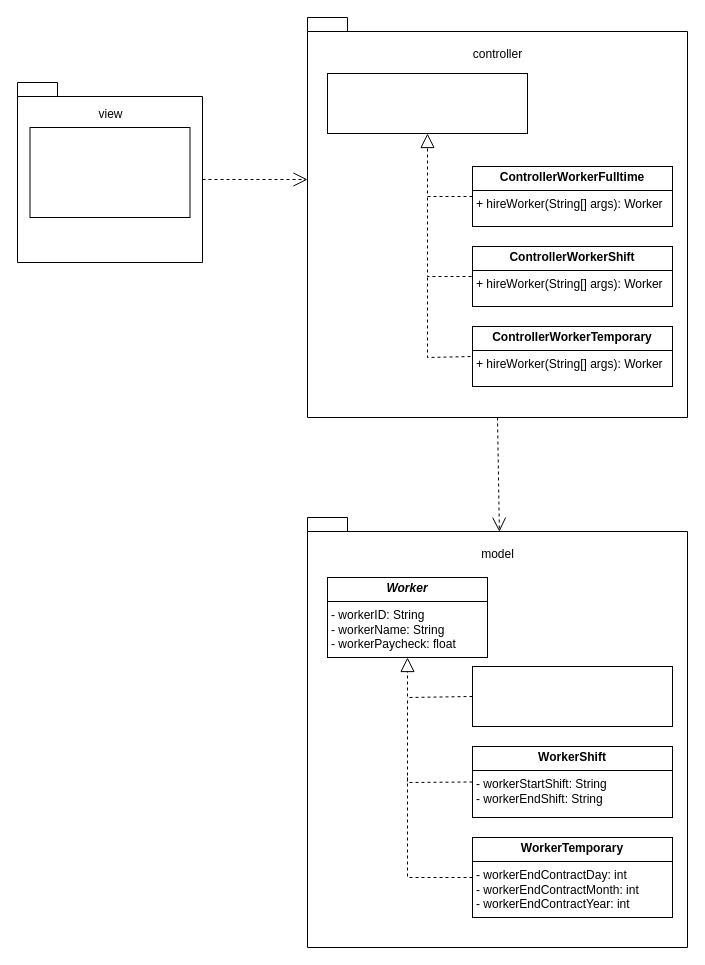
The diagram is 705 pixels wide and 965 high, and some of its shapes have lost their labels. The centre of each missing label's shape, as x and y in pixels:
ControllerWorkerFactory + hireWorker(String[] args): Worker: pixel 427 103
Main + main(String[] args): void: pixel 109 172
WorkerFulltime - workerWorkHour: int: pixel 572 696
